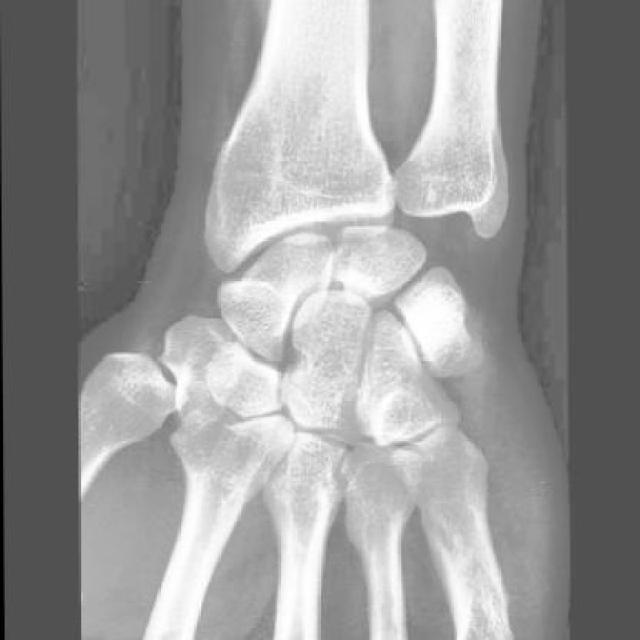Fracture: (404, 300, 484, 373)
